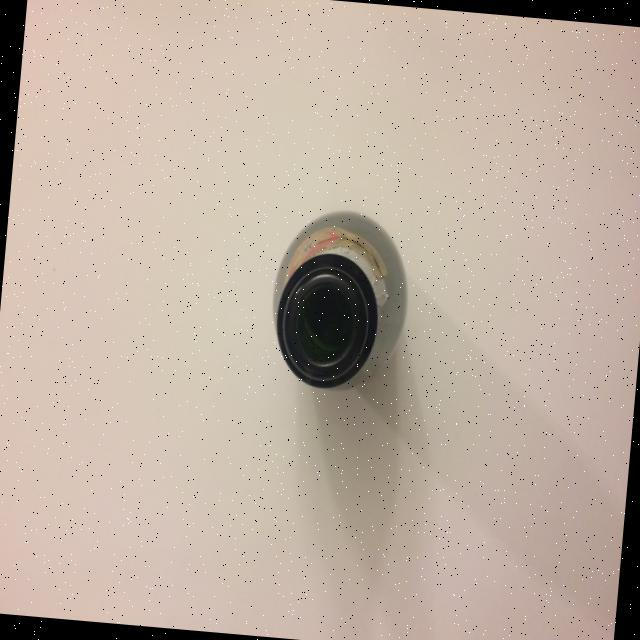glass: (265, 200, 420, 399)
